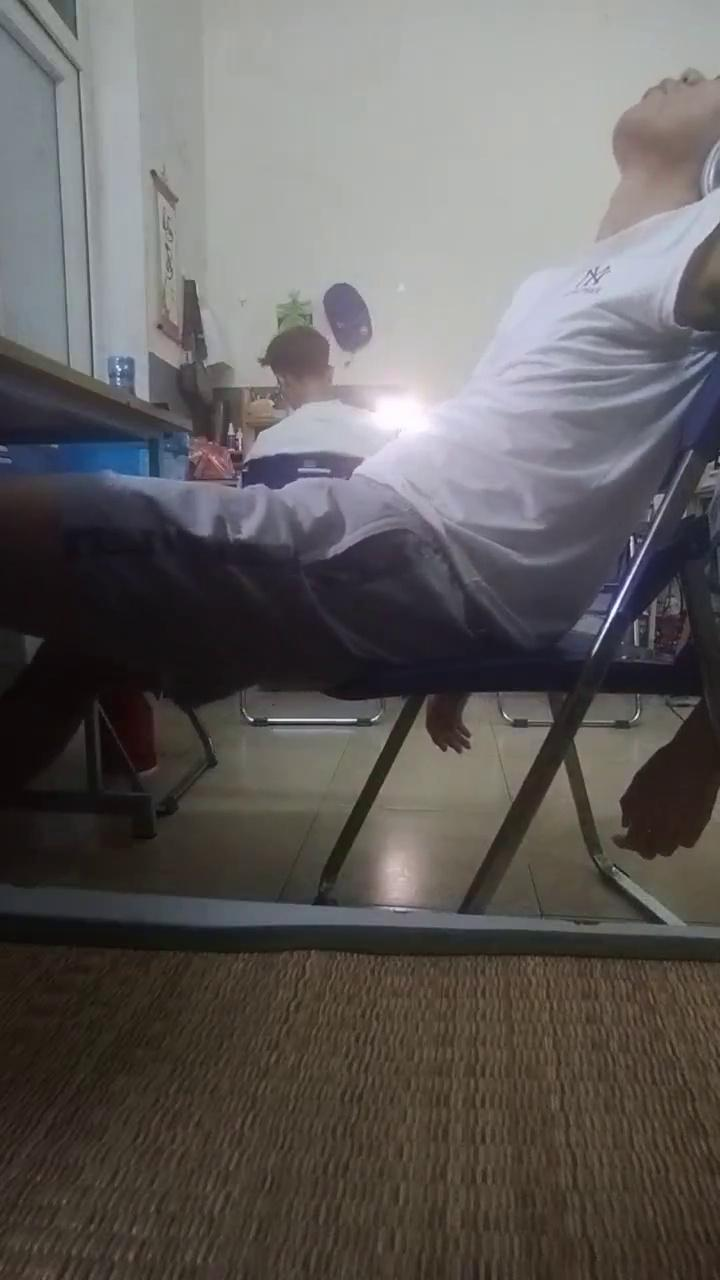BadPosture: (0, 71, 719, 804)
